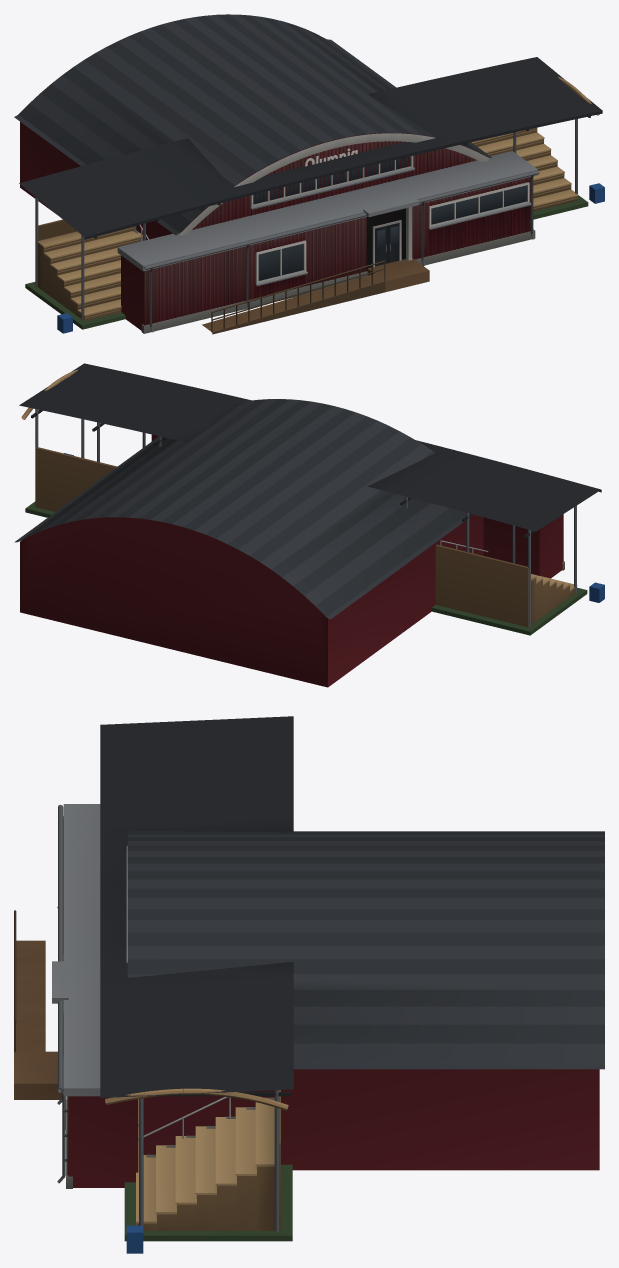
Rendered from olympia.glb.
3 renders of one model, top to bottom at view 1: azimuth 30°, elevation 25°; view 2: azimuth 150°, elevation 25°; view 3: azimuth 270°, elevation 25°, orthographic. The views are drawn at different scales.
Parts seen in each view (by area): view 1: olympia-hall, olympia-stand; view 2: olympia-hall, olympia-stand; view 3: olympia-hall, olympia-stand.
Boxes of the visible parts, x1,y1,x2,y2 form: olympia-hall: (14, 14, 539, 334); olympia-stand: (19, 57, 604, 333); olympia-hall: (14, 399, 564, 687); olympia-stand: (19, 363, 604, 635); olympia-hall: (14, 804, 604, 1188); olympia-stand: (100, 716, 293, 1253).
Bounding box in the file's own units: 87.8 × 19.72 × 56.21.
